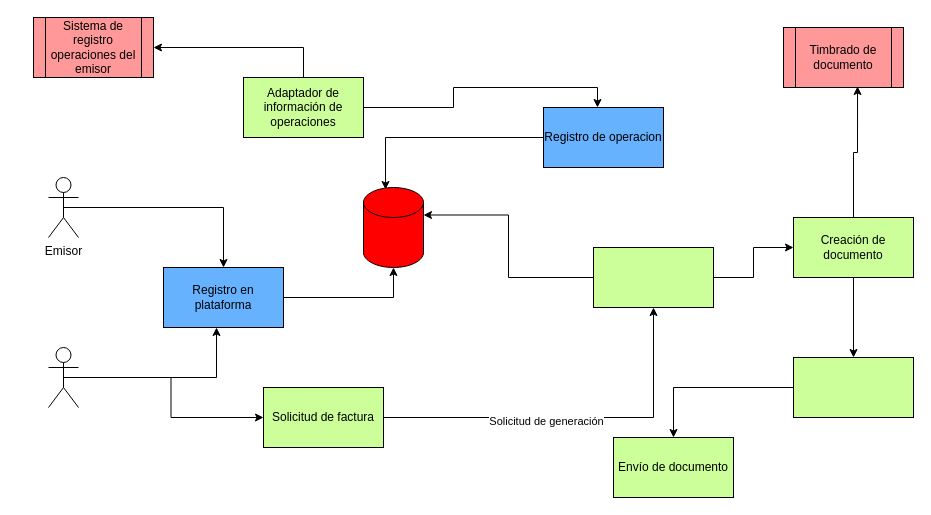
Image size: 931x515. Some labels were removed from this diagram. The centre of each missing label's shape, as x and y in pixels:
"Datos para documento" belongs at [393,227].
"Generación de pdf" belongs at [853,387].
"Integrador de información" belongs at [653,277].
"Receptor/Tercero" belongs at [63,377].
